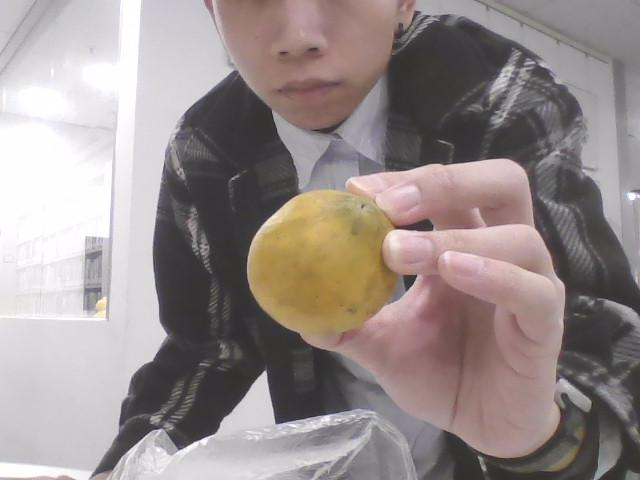lemon: (246, 189, 402, 335)
